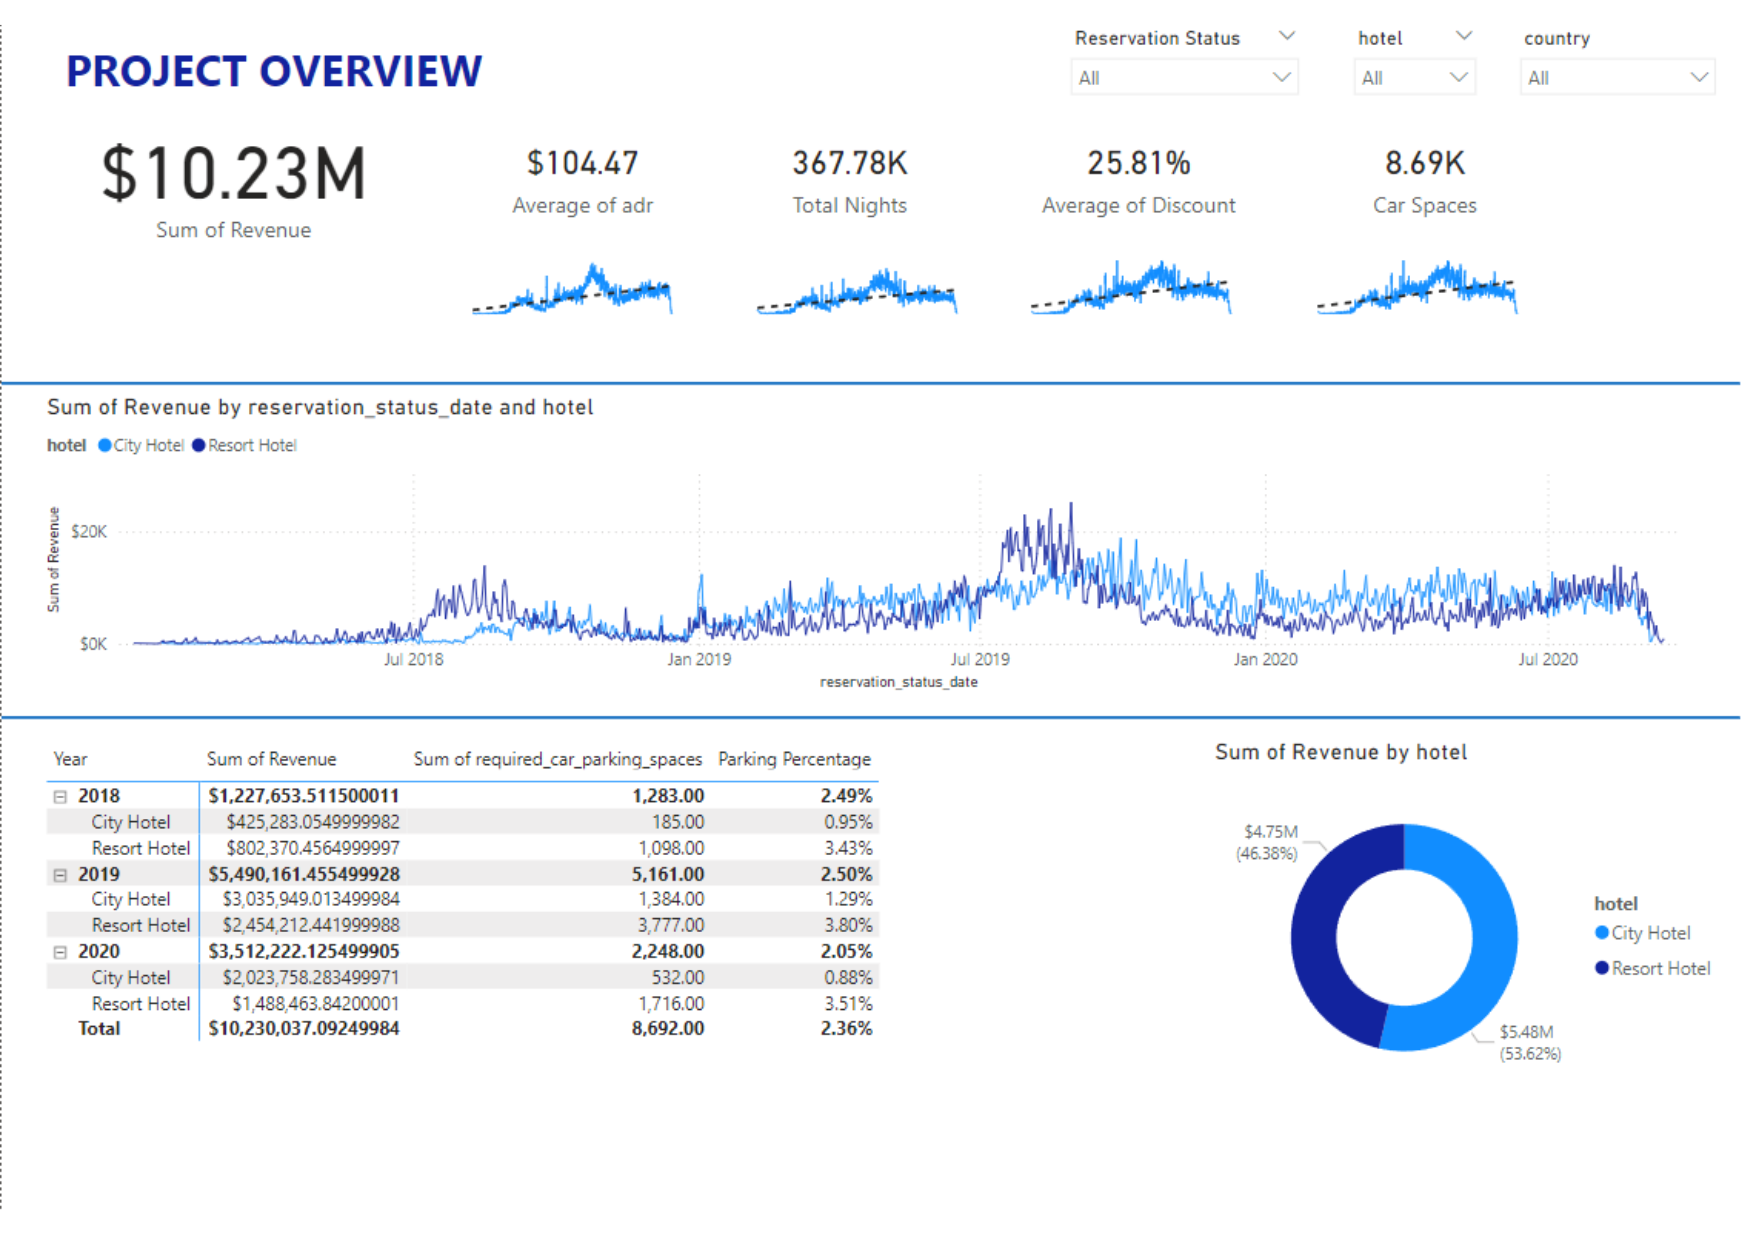

Layout of this report page (visuals, bound fields, positions):
{"tool":"powerbi","page":{"name":"Page 1","canvas":[1280,920],"ordinal":0},"visuals":[{"type":"shape","box":[0,291.8,1280,29.2],"z":0},{"type":"shape","box":[0,537.9,1280,29.2],"z":1000},{"type":"card","fields":{"Values":["Sum(Query1.Revenue)"]},"box":[36,99.2,269.4,110.9],"z":2000},{"type":"card","fields":{"Values":["Avg(Query1.adr)"]},"box":[321.9,108.9,212,90.5],"z":3000},{"type":"card","fields":{"Values":["Query1.Total Nights"]},"box":[530.1,108.9,188.7,90.5],"z":4000},{"type":"card","fields":{"Values":["Avg(Query1.Discount)"]},"box":[754.8,108.9,165.3,90.5],"z":5000},{"type":"lineChart","fields":{"Category":["Query1.reservation_status_date"],"Y":["Sum(Query1.Revenue)"],"Series":["Query1.hotel"]},"box":[28.2,314.2,1222.6,223.7],"z":6000},{"type":"slicer","fields":{"Values":["Query1.country"]},"box":[1107.8,39.9,164.4,77.8],"z":7000},{"type":"slicer","fields":{"Values":["Query1.hotel"]},"box":[985.3,39.9,109.9,77.8],"z":8000},{"type":"lineChart","fields":{"Category":["Query1.reservation_status_date"],"Y":["Sum(Query1.adr)"]},"box":[331.7,199.4,177,62.2],"z":9000},{"type":"lineChart","fields":{"Category":["Query1.reservation_status_date"],"Y":["Query1.Total Nights"]},"box":[541.8,199.4,177,62.2],"z":10000},{"type":"lineChart","fields":{"Category":["Query1.reservation_status_date"],"Y":["Sum(Query1.Discount)"]},"box":[743.1,199.4,177,62.2],"z":11000},{"type":"card","fields":{"Values":["Sum(Query1.required_car_parking_spaces)"]},"box":[965.8,108.9,165.3,90.5],"z":12000},{"type":"lineChart","fields":{"Category":["Query1.reservation_status_date"],"Y":["Sum(Query1.Discount)"]},"box":[954.2,199.4,177,62.2],"z":13000},{"type":"donutChart","fields":{"Category":["Query1.hotel"],"Y":["Sum(Query1.Revenue)"]},"box":[888.3,567.6,384.1,275.3],"z":14000},{"type":"pivotTable","fields":{"Rows":["Query1.reservation_status_date.Variation.Date Hierarchy.Year","Query1.hotel"],"Values":["Sum(Query1.Revenue)","Sum(Query1.required_car_parking_spaces)","Query1.Parking Percentage"]},"box":[28.3,567.6,726.3,287.8],"z":15000},{"type":"textbox","box":[9.1,48.7,383,69.1],"z":15500},{"type":"slicer","fields":{"Values":["Query1.reservation_status"]},"box":[777.2,39.7,188.1,60],"z":16000}]}

Visuals, with their boxes in screenshot pixels (x1, y1, x2, y2), scaled from the page's 1280x920 canvas onto the 1748x1240 screenshot:
shape: <box>0,393,1747,433</box>
shape: <box>0,725,1747,764</box>
card - Sum(Query1.Revenue): <box>49,134,417,283</box>
card - Avg(Query1.adr): <box>440,147,729,269</box>
card - Query1.Total Nights: <box>724,147,982,269</box>
card - Avg(Query1.Discount): <box>1031,147,1257,269</box>
lineChart - Query1.reservation_status_date x Sum(Query1.Revenue): <box>39,423,1708,725</box>
slicer - Query1.country: <box>1513,54,1737,159</box>
slicer - Query1.hotel: <box>1346,54,1496,159</box>
lineChart - Query1.reservation_status_date x Sum(Query1.adr): <box>453,269,695,353</box>
lineChart - Query1.reservation_status_date x Query1.Total Nights: <box>740,269,982,353</box>
lineChart - Query1.reservation_status_date x Sum(Query1.Discount): <box>1015,269,1257,353</box>
card - Sum(Query1.required_car_parking_spaces): <box>1319,147,1545,269</box>
lineChart - Query1.reservation_status_date x Sum(Query1.Discount): <box>1303,269,1545,353</box>
donutChart - Query1.hotel x Sum(Query1.Revenue): <box>1213,765,1738,1136</box>
pivotTable - Query1.reservation_status_date.Variation.Date Hierarchy.Year x Query1.hotel: <box>39,765,1031,1153</box>
textbox: <box>12,66,535,159</box>
slicer - Query1.reservation_status: <box>1061,54,1318,134</box>
